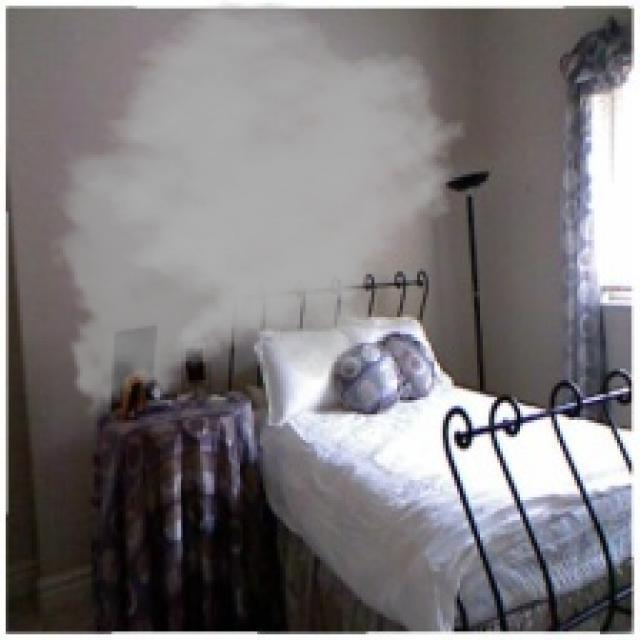Smoke: (46, 0, 468, 423)
